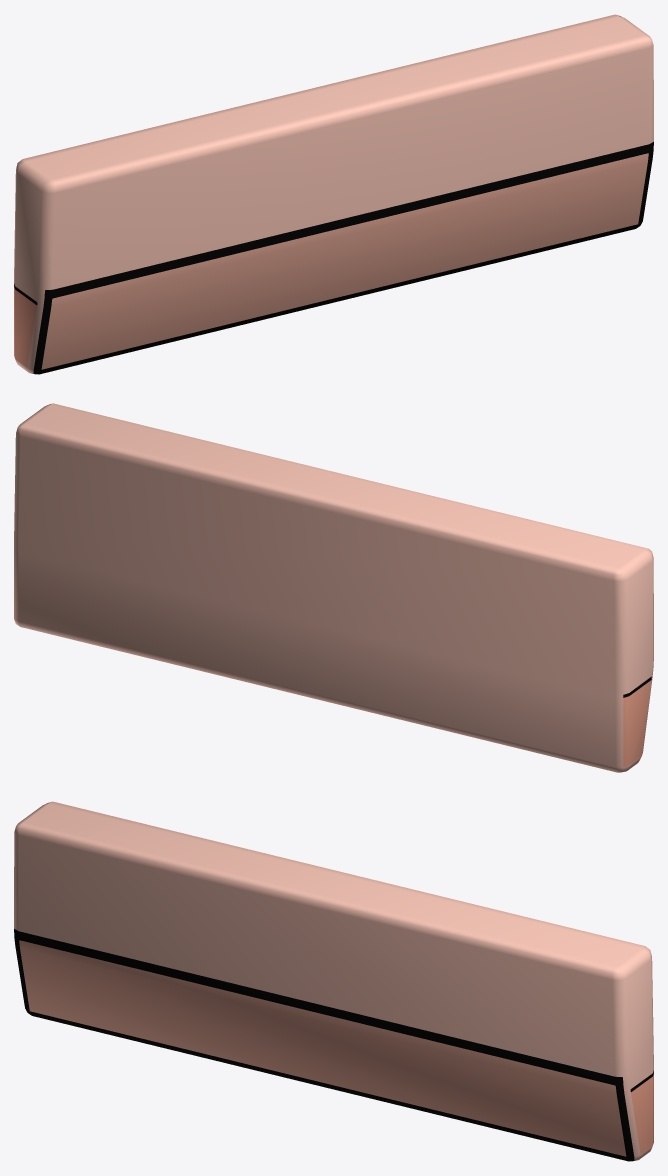
File: 3d_Clim.fbx
The picture shows the model from 3 angles, top to bottom: view 1: azimuth 30°, elevation 25°; view 2: azimuth 150°, elevation 25°; view 3: azimuth 330°, elevation 25°; orthographic projection.
Parts seen in each view (by area): view 1: 3d_Clim; view 2: 3d_Clim; view 3: 3d_Clim.
Boxes of the visible parts, x1,y1,x2,y2 form: 3d_Clim: (14, 14, 653, 374); 3d_Clim: (14, 403, 653, 772); 3d_Clim: (14, 801, 653, 1161).
Bounding box in the file's own units: 1.16 × 0.3676 × 0.1154.
